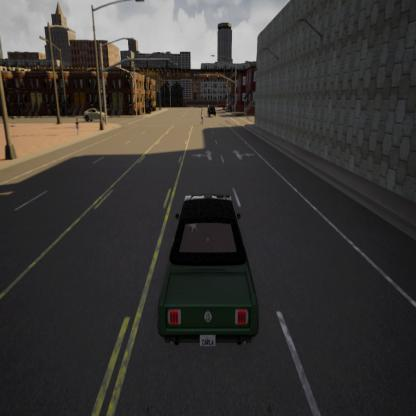Cars: (159, 182, 258, 354), (82, 103, 107, 124), (204, 97, 221, 119)
Pedestrian: (73, 112, 82, 137)
